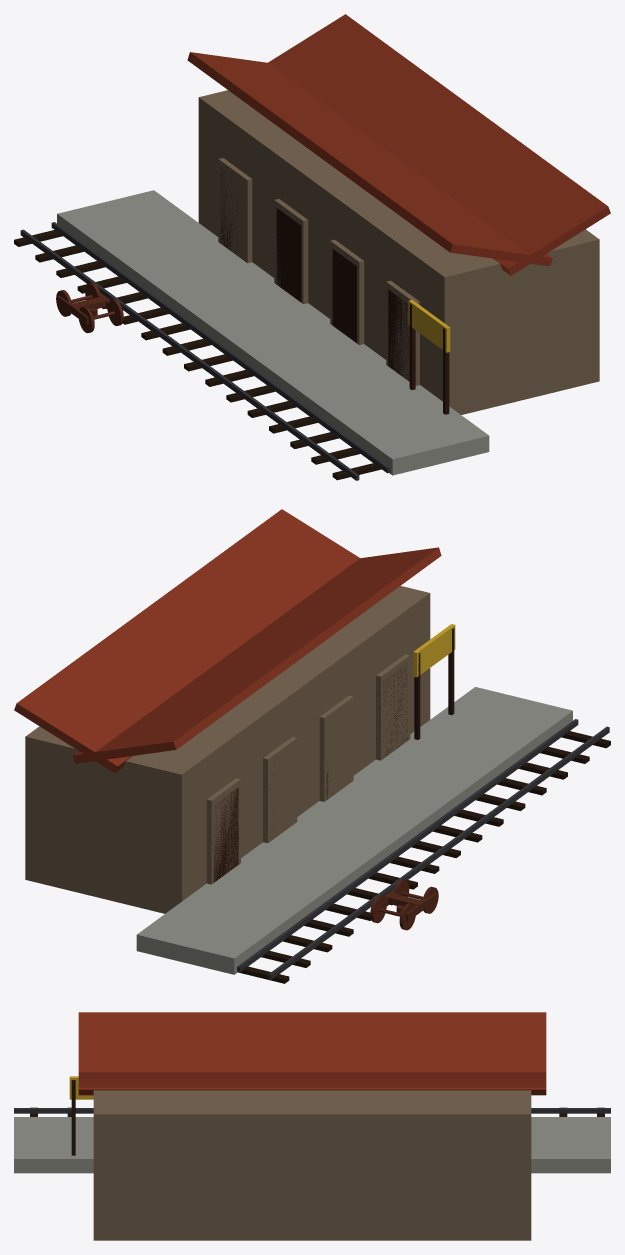
File: EstacionFerrocarril.obj
The picture shows the model from 3 angles, top to bottom: view 1: azimuth 30°, elevation 25°; view 2: azimuth 150°, elevation 25°; view 3: azimuth 270°, elevation 25°; orthographic projection. The views are drawn at different scales.
Visible parts, largest first — view 1: Estacion_Cuerpo_Principal, Anden_Estacion, Techo_Faldon_Der, Techo_Faldon_Izq, Marco_Puerta_4, Riel_Derecho, Riel_Izquierdo, Puerta_Estacion_3, Marco_Puerta_1, Puerta_Estacion_2, Puerta_Estacion_1, Marco_Puerta_3 (+2 smaller); view 2: Estacion_Cuerpo_Principal, Anden_Estacion, Techo_Faldon_Der, Techo_Faldon_Izq, Marco_Puerta_1, Marco_Puerta_2, Marco_Puerta_3, Riel_Derecho, Marco_Puerta_4, Riel_Izquierdo, Puerta_Estacion_4, Placa_Letrero_ElParque; view 3: Estacion_Cuerpo_Principal, Techo_Faldon_Izq, Anden_Estacion, Techo_Faldon_Der, Riel_Izquierdo, Poste_Letrero_1.
Part boxes in pixels (x1=…): Estacion_Cuerpo_Principal: x1=198, y1=90, x2=599, y2=414; Anden_Estacion: x1=57, y1=190, x2=489, y2=475; Techo_Faldon_Der: x1=268, y1=14, x2=610, y2=275; Techo_Faldon_Izq: x1=187, y1=52, x2=552, y2=266; Marco_Puerta_4: x1=218, y1=158, x2=252, y2=263; Riel_Derecho: x1=51, y1=222, x2=390, y2=473; Riel_Izquierdo: x1=20, y1=229, x2=359, y2=480; Puerta_Estacion_3: x1=276, y1=208, x2=301, y2=302; Marco_Puerta_1: x1=386, y1=280, x2=419, y2=385; Puerta_Estacion_2: x1=332, y1=249, x2=356, y2=342; Puerta_Estacion_1: x1=388, y1=289, x2=409, y2=379; Marco_Puerta_3: x1=274, y1=199, x2=308, y2=304; Estacion_Cuerpo_Principal: x1=25, y1=586, x2=430, y2=913; Anden_Estacion: x1=136, y1=687, x2=572, y2=974; Techo_Faldon_Der: x1=14, y1=509, x2=359, y2=773; Techo_Faldon_Izq: x1=72, y1=547, x2=441, y2=763; Marco_Puerta_1: x1=376, y1=654, x2=410, y2=760; Marco_Puerta_2: x1=319, y1=695, x2=353, y2=801; Marco_Puerta_3: x1=263, y1=737, x2=297, y2=843; Riel_Derecho: x1=237, y1=719, x2=578, y2=972; Marco_Puerta_4: x1=206, y1=778, x2=240, y2=884; Riel_Izquierdo: x1=268, y1=726, x2=609, y2=979; Puerta_Estacion_4: x1=213, y1=787, x2=238, y2=882; Placa_Letrero_ElParque: x1=413, y1=624, x2=455, y2=677; Estacion_Cuerpo_Principal: x1=93, y1=1090, x2=531, y2=1240; Techo_Faldon_Izq: x1=78, y1=1012, x2=546, y2=1095; Anden_Estacion: x1=14, y1=1117, x2=610, y2=1173; Techo_Faldon_Der: x1=78, y1=1072, x2=546, y2=1087; Riel_Izquierdo: x1=14, y1=1108, x2=610, y2=1113; Poste_Letrero_1: x1=71, y1=1080, x2=75, y2=1155.
Size of the model in its own units: 17.58 by 8.93 by 30.
